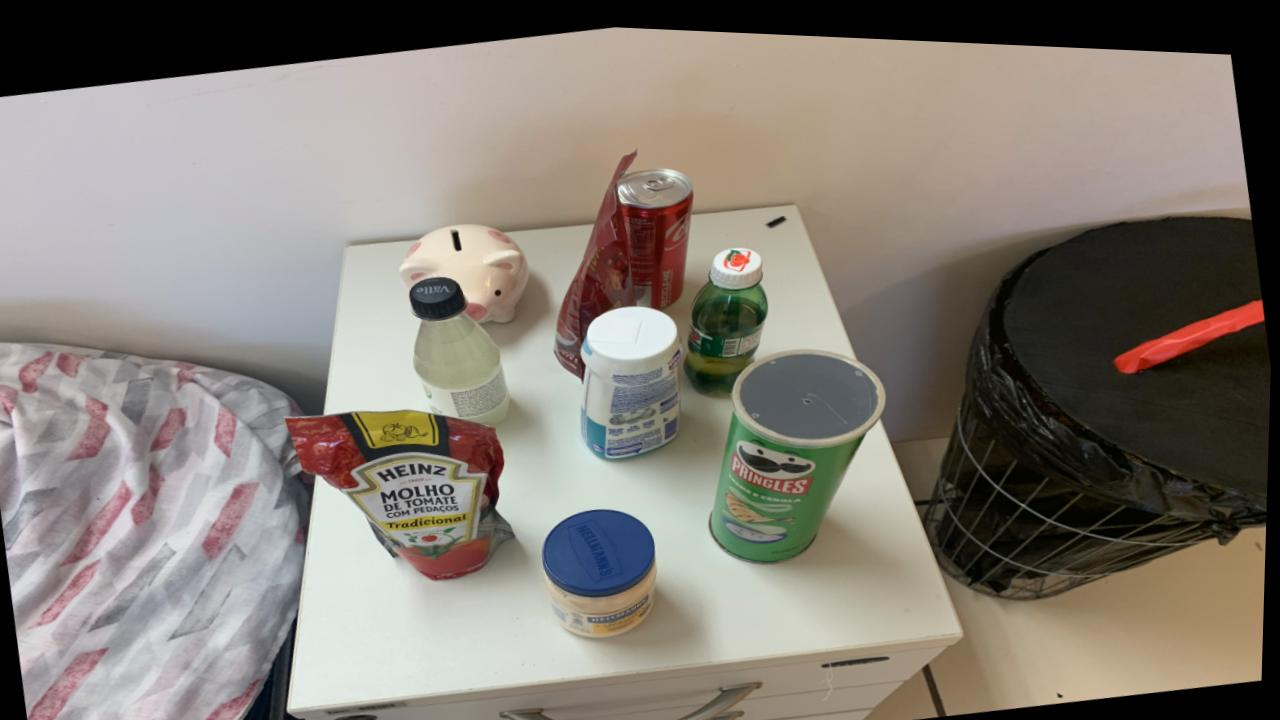Cleaner-Cleanup_Items: (583, 299, 685, 454)
Coke-Drinks: (617, 161, 695, 303)
Guarana-Drinks: (686, 240, 770, 386)
Mayonnaise-Pantry_Items: (545, 503, 661, 632)
Pig_Safe-Miscellaneous: (402, 218, 531, 318)
Pringles-Snacks: (712, 341, 887, 555)
Soda-Drinks: (410, 272, 513, 420)
Tomato_Sauce-Pantry_Items: (289, 405, 518, 575), (556, 143, 638, 372)
